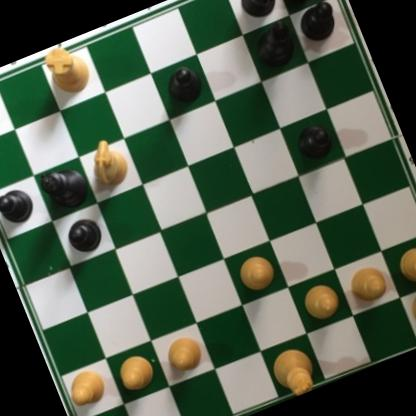black-bishop: (245, 15, 304, 74)
black-king: (34, 158, 92, 216)
black-knight: (229, 0, 285, 26)
black-pawn: (292, 0, 344, 48), (161, 61, 208, 112), (62, 212, 108, 260), (292, 119, 338, 166), (0, 182, 40, 231)
black-rook: (267, 0, 333, 11)
white-king: (261, 340, 322, 403)
white-knight: (80, 129, 135, 195)
white-pawn: (112, 347, 163, 399), (343, 259, 392, 309), (62, 365, 112, 413), (233, 249, 281, 299), (298, 278, 345, 325), (161, 333, 207, 379), (391, 240, 416, 291)
white-queen: (0, 75, 7, 144)
white-rook: (35, 38, 95, 104), (400, 276, 416, 343)
